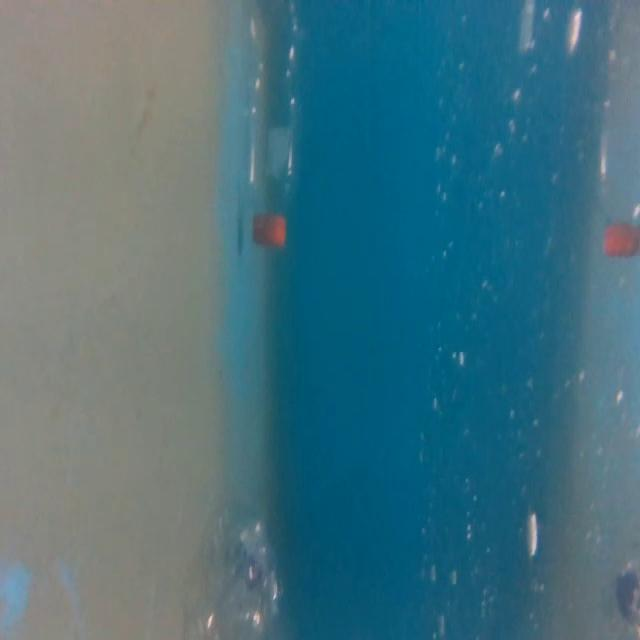plastic bottle: (237, 0, 310, 252)
